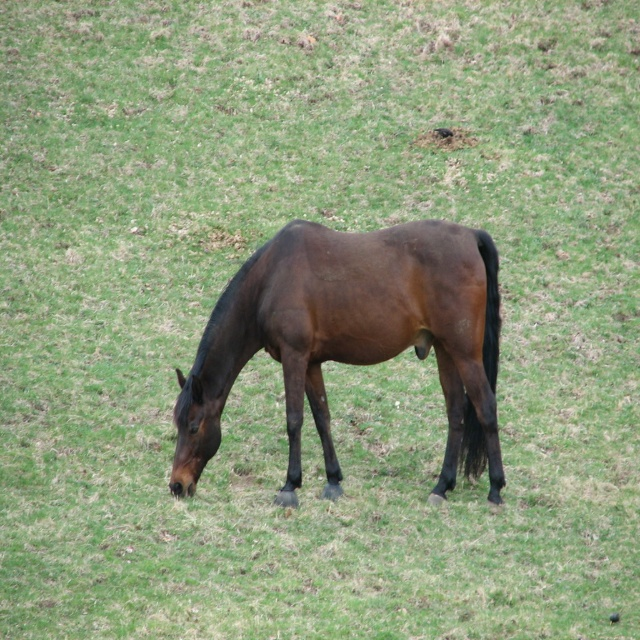Horse: (167, 218, 506, 509)
